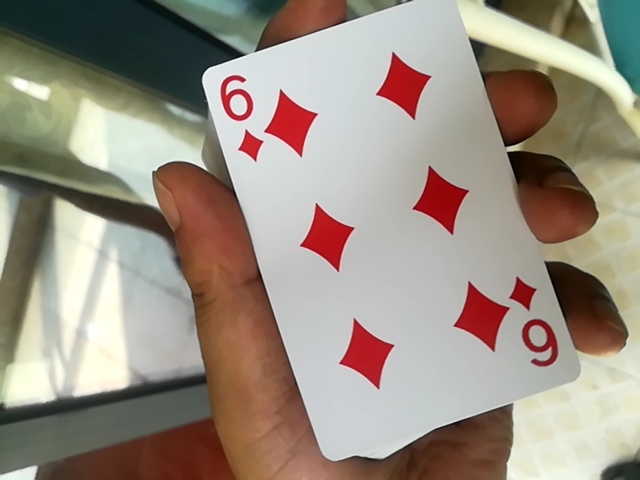fk 6: (195, 7, 565, 460)
